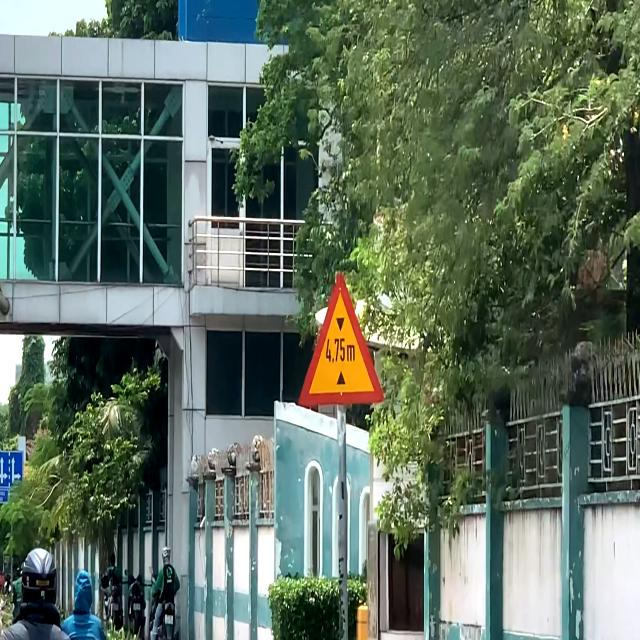S.509a: (294, 266, 388, 411)
